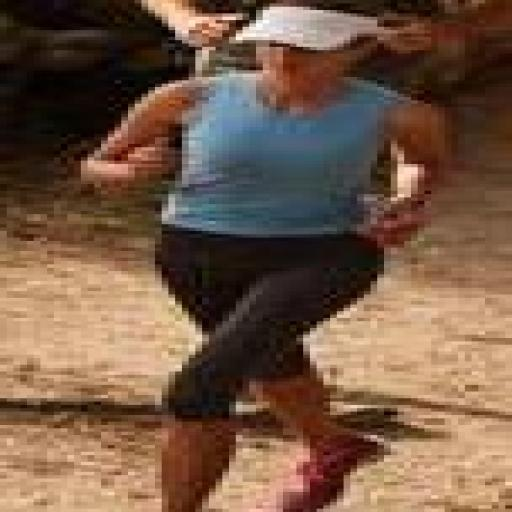person: (81, 7, 451, 511), (391, 0, 511, 50)
